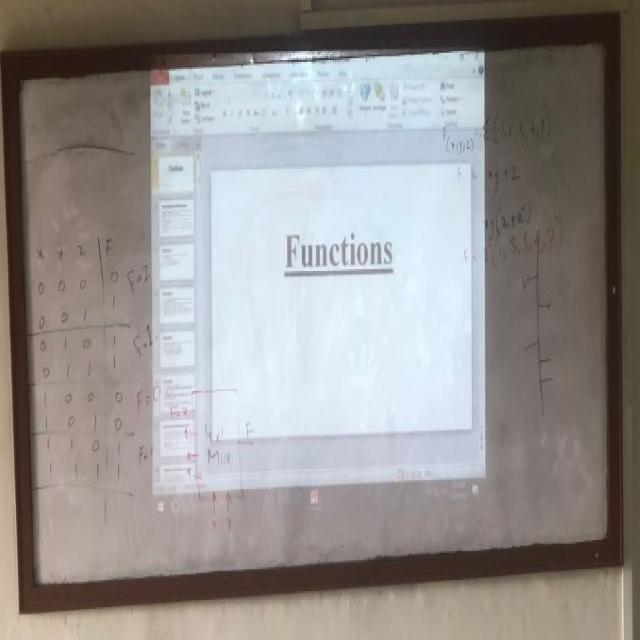Slide: (148, 45, 484, 526)
White-board: (8, 29, 616, 596)
